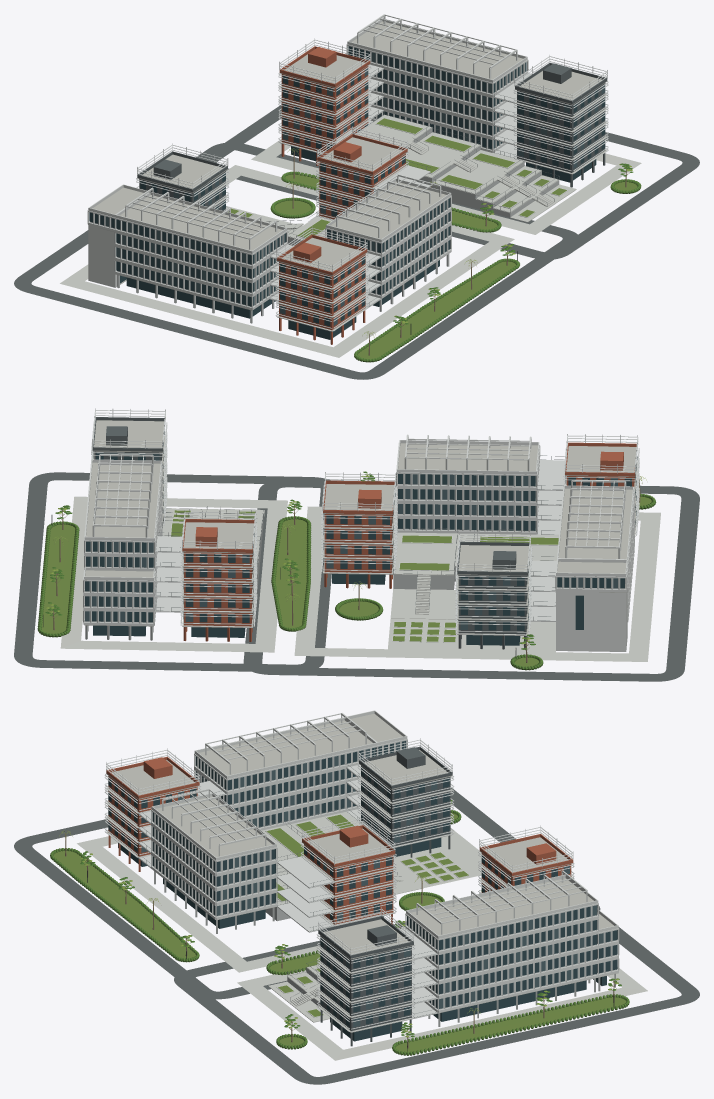
File: bupt-lod2.glb
3 renders of one model, top to bottom at view 1: azimuth 30°, elevation 25°; view 2: azimuth 150°, elevation 25°; view 3: azimuth 270°, elevation 25°, orthographic. The views are drawn at different scales.
Parts seen in each view (by area): view 1: floor plates and roof planes | roof.002, white rectangular window frames | ivory metal.002, recessed blue gray windows | blue glazing.002, horizontal silver sun louvers | silver louvers.002, internal drive and court paving | dark paving.002, brick red end tower panels | red ceramic.002, site perimeter paving | pale paving.002, charcoal end tower panels | charcoal cladding.002, stepped garden paving | pale paving.002, open white roof pergolas | ivory metal.002, connected planted lawns | lawn.002, recessed blue gray windows | glazing light.002 (+9 smaller); view 2: floor plates and roof planes | roof.002, internal drive and court paving | dark paving.002, site perimeter paving | pale paving.002, white rectangular window frames | ivory metal.002, recessed blue gray windows | blue glazing.002, horizontal silver sun louvers | silver louvers.002, brick red end tower panels | red ceramic.002, connected planted lawns | lawn.002, open white roof pergolas | ivory metal.002, open connector floor decks | ivory metal.002, charcoal end tower panels | charcoal cladding.002, white end stair core blades | ivory metal.002 (+12 smaller); view 3: white rectangular window frames | ivory metal.002, floor plates and roof planes | roof.002, recessed blue gray windows | blue glazing.002, horizontal silver sun louvers | silver louvers.002, internal drive and court paving | dark paving.002, charcoal end tower panels | charcoal cladding.002, brick red end tower panels | red ceramic.002, site perimeter paving | pale paving.002, connected planted lawns | lawn.002, open white roof pergolas | ivory metal.002, open connector floor decks | ivory metal.002, recessed blue gray windows | glazing light.002 (+8 smaller).
Boxes of the visible parts, left/top/right/bottom form: floor plates and roof planes | roof.002: left=92, top=21, right=607, bottom=331; white rectangular window frames | ivory metal.002: left=87, top=18, right=528, bottom=310; recessed blue gray windows | blue glazing.002: left=89, top=46, right=605, bottom=339; horizontal silver sun louvers | silver louvers.002: left=136, top=38, right=608, bottom=331; internal drive and court paving | dark paving.002: left=14, top=104, right=699, bottom=379; brick red end tower panels | red ceramic.002: left=277, top=46, right=407, bottom=344; site perimeter paving | pale paving.002: left=60, top=139, right=641, bottom=357; charcoal end tower panels | charcoal cladding.002: left=137, top=62, right=607, bottom=210; stepped garden paving | pale paving.002: left=288, top=114, right=576, bottom=246; open white roof pergolas | ivory metal.002: left=125, top=14, right=517, bottom=249; connected planted lawns | lawn.002: left=275, top=174, right=637, bottom=358; recessed blue gray windows | glazing light.002: left=105, top=46, right=605, bottom=325; floor plates and roof planes | roof.002: left=84, top=420, right=637, bottom=635; internal drive and court paving | dark paving.002: left=14, top=472, right=699, bottom=681; site perimeter paving | pale paving.002: left=60, top=496, right=660, bottom=661; white rectangular window frames | ivory metal.002: left=83, top=440, right=634, bottom=626; recessed blue gray windows | blue glazing.002: left=85, top=442, right=637, bottom=645; horizontal silver sun louvers | silver louvers.002: left=91, top=408, right=639, bottom=635; brick red end tower panels | red ceramic.002: left=182, top=442, right=636, bottom=641; connected planted lawns | lawn.002: left=41, top=496, right=651, bottom=666; open white roof pergolas | ivory metal.002: left=92, top=434, right=626, bottom=558; open connector floor decks | ivory metal.002: left=156, top=460, right=566, bottom=621; charcoal end tower panels | charcoal cladding.002: left=92, top=417, right=529, bottom=649; white end stair core blades | ivory metal.002: left=556, top=587, right=627, bottom=651; white rectangular window frames | ivory metal.002: left=151, top=710, right=619, bottom=1012; floor plates and roof planes | roof.002: left=106, top=713, right=618, bottom=1032; recessed blue gray windows | blue glazing.002: left=108, top=741, right=617, bottom=1041; horizontal silver sun louvers | silver louvers.002: left=104, top=738, right=574, bottom=1032; internal drive and court paving | dark paving.002: left=14, top=788, right=699, bottom=1084; charcoal end tower panels | charcoal cladding.002: left=318, top=746, right=452, bottom=1046; brick red end tower panels | red ceramic.002: left=106, top=756, right=573, bottom=924; site perimeter paving | pale paving.002: left=77, top=829, right=647, bottom=1060; connected planted lawns | lawn.002: left=53, top=812, right=626, bottom=1052; open white roof pergolas | ivory metal.002: left=162, top=713, right=587, bottom=934; open connector floor decks | ivory metal.002: left=138, top=764, right=438, bottom=1018; recessed blue gray windows | glazing light.002: left=108, top=742, right=617, bottom=1027.
Size of the model in its own units: 188 by 27.16 by 165.
